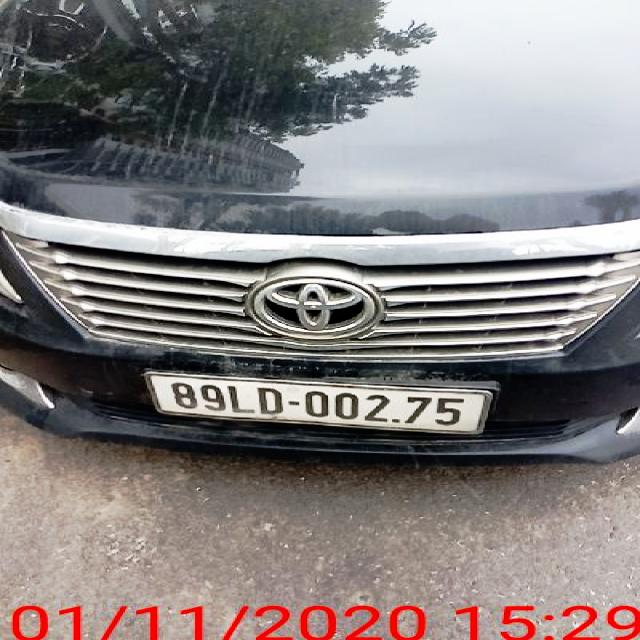license_plate: (150, 373, 490, 431)
